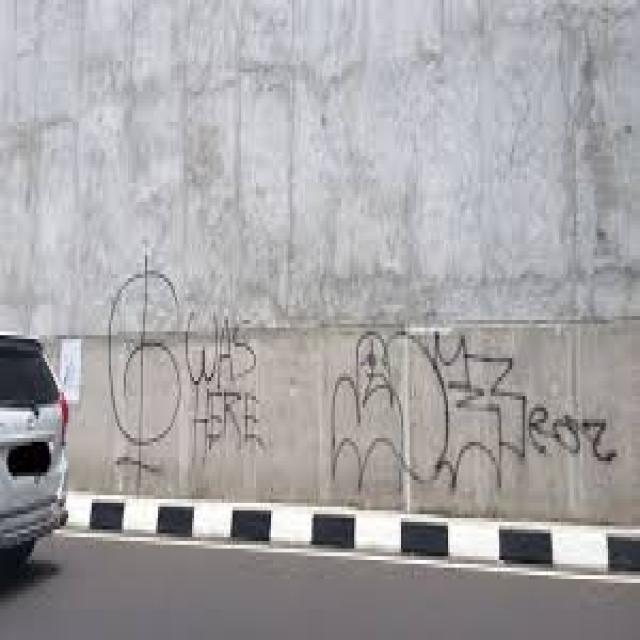-: (328, 325, 618, 495), (106, 254, 262, 494)
